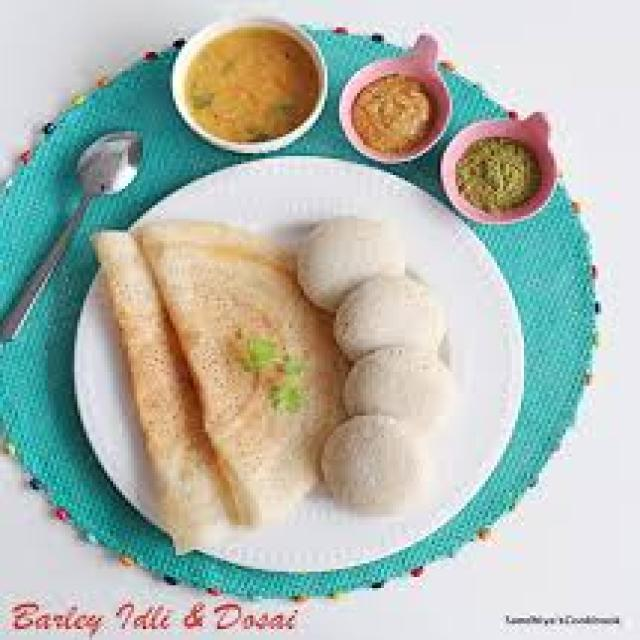DOSA: (137, 222, 342, 522), (95, 232, 235, 550)
IDLI: (321, 416, 429, 511), (298, 219, 402, 309), (333, 276, 444, 358), (345, 350, 449, 429)
